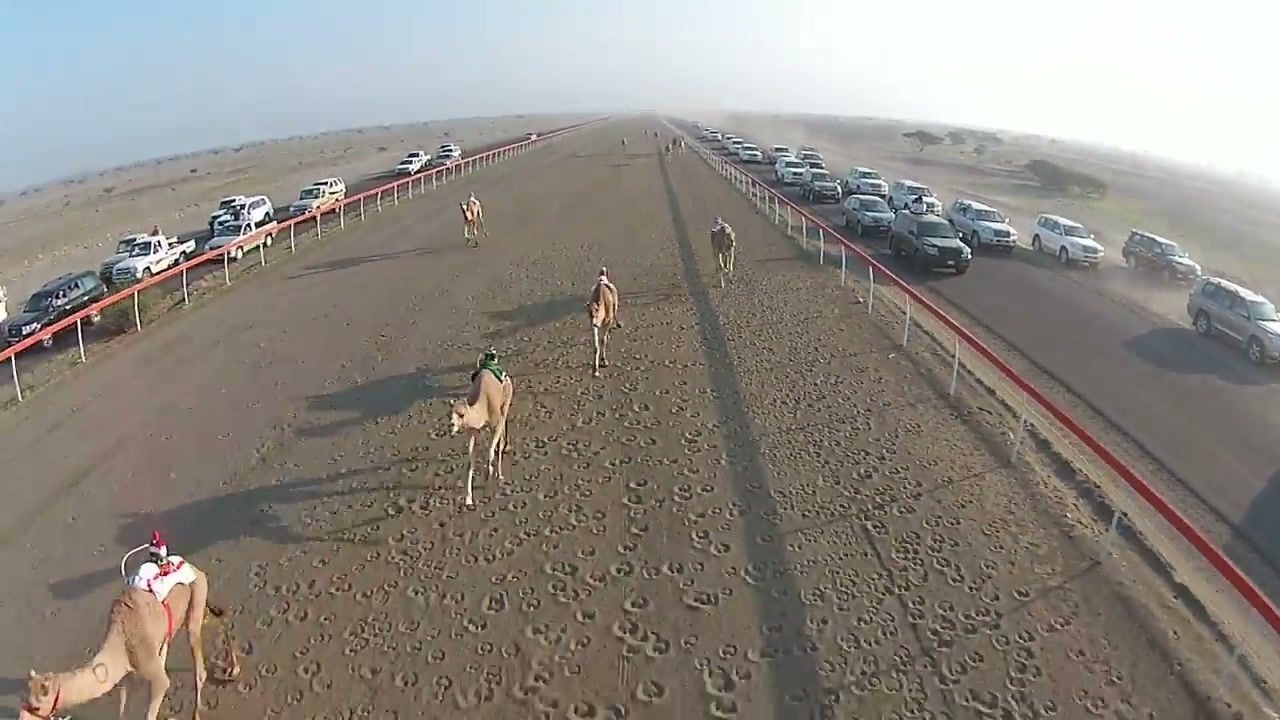animal_foot_print: (235, 367, 755, 717)
